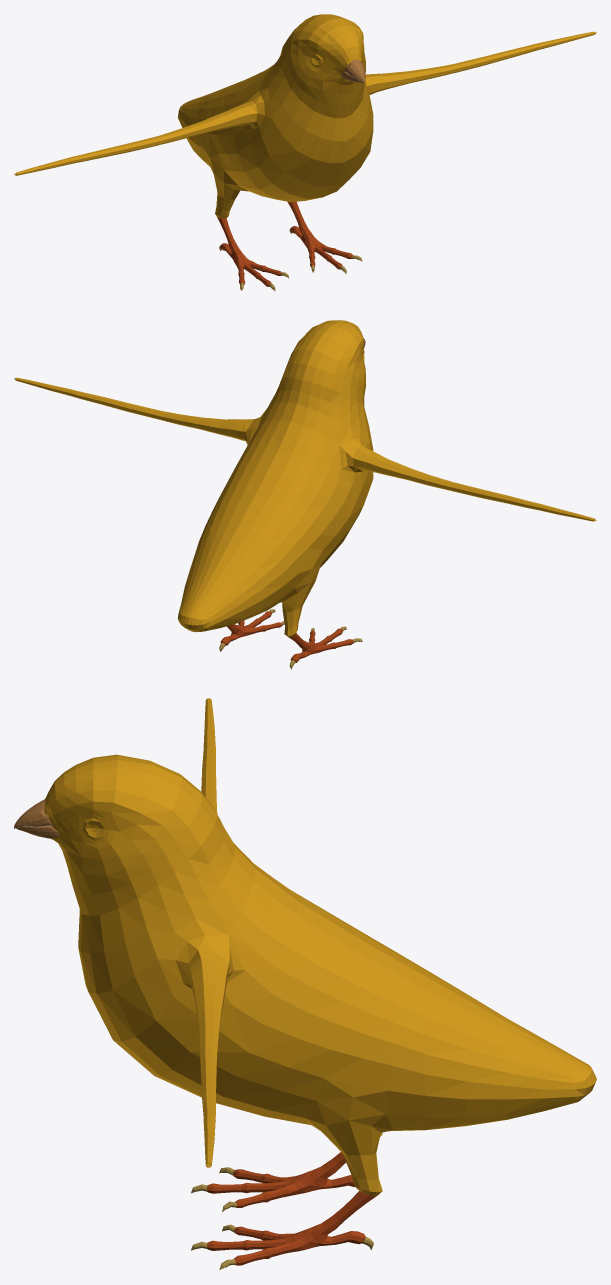
The model's file is canary_canary_triangulated.obj.
3 renders of one model, top to bottom at view 1: azimuth 30°, elevation 25°; view 2: azimuth 150°, elevation 25°; view 3: azimuth 270°, elevation 25°, orthographic. The views are drawn at different scales.
Bounding box in the file's own units: 0.1851 × 0.0851 × 0.0972.
